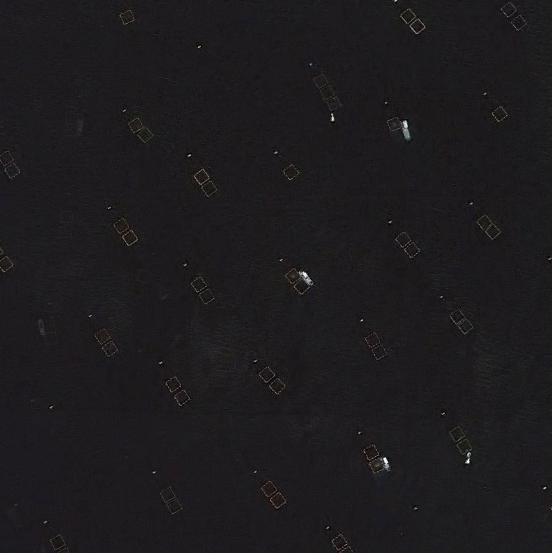ship: (399, 117, 418, 141), (297, 268, 318, 288), (381, 453, 396, 476)
square: (109, 209, 132, 242), (119, 226, 144, 254), (118, 4, 143, 29), (132, 124, 158, 148), (488, 101, 511, 128), (190, 164, 213, 190), (362, 325, 381, 354), (172, 386, 195, 409), (2, 161, 27, 181), (157, 481, 176, 507), (201, 177, 222, 200), (257, 364, 278, 387), (164, 375, 184, 399), (198, 285, 218, 309), (268, 375, 289, 397), (485, 222, 504, 246), (257, 476, 276, 500), (94, 325, 112, 350), (362, 437, 378, 465), (448, 420, 465, 446), (403, 240, 424, 261), (384, 114, 405, 135), (393, 228, 413, 250), (398, 4, 418, 26), (498, 1, 520, 21), (283, 264, 303, 286), (102, 339, 123, 359), (328, 530, 348, 551), (457, 435, 473, 461), (408, 17, 428, 37), (125, 114, 145, 134), (1, 252, 17, 277), (291, 275, 311, 295), (369, 454, 388, 475), (474, 211, 494, 230), (267, 489, 286, 509), (508, 13, 529, 31), (48, 533, 70, 550), (371, 340, 387, 363), (312, 71, 329, 92), (449, 306, 466, 326), (165, 496, 181, 517), (458, 317, 476, 335), (326, 93, 343, 111), (188, 275, 207, 291), (281, 162, 298, 179), (319, 82, 333, 102)
